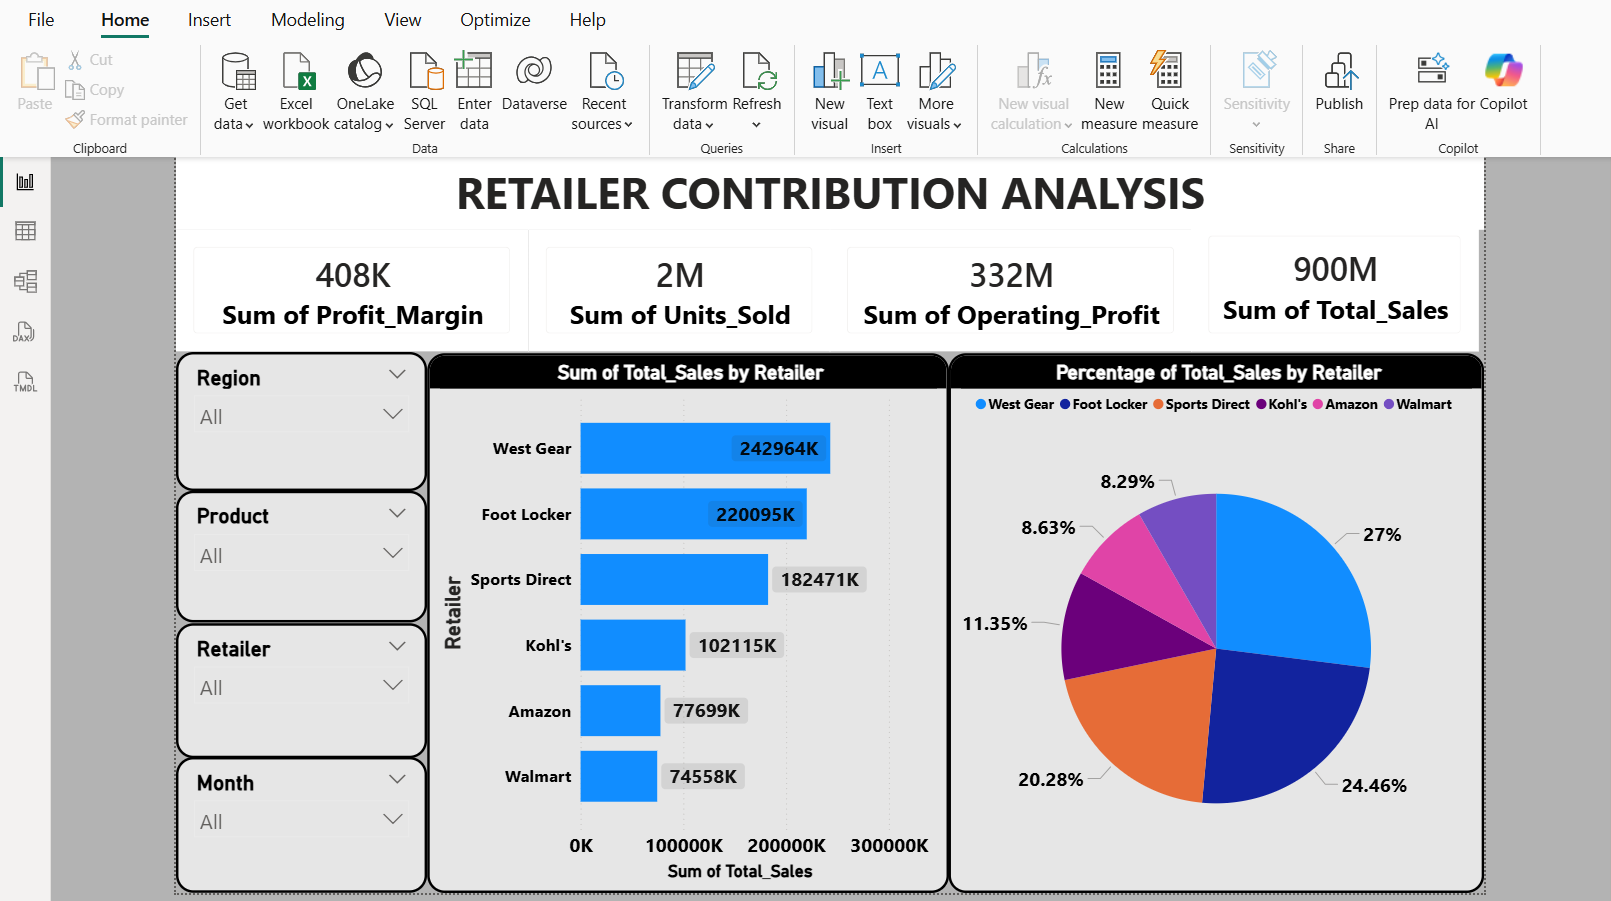

The dashboard page shown, as its layout file describes it:
{"tool":"powerbi","page":{"name":"Page 4","canvas":[1280,720],"ordinal":3},"visuals":[{"type":"textbox","box":[0,0,1280.3,70.9],"z":0},{"type":"barChart","fields":{"Category":["adidas_sales.Retailer"],"Y":["Sum(adidas_sales.Total_Sales)"]},"box":[245.6,192.1,510.5,528.3],"z":1000},{"type":"pieChart","title":"Percentage of Total_Sales by Retailer","fields":{"Y":["Sum(adidas_sales.Total_Sales)"],"Category":["adidas_sales.Retailer"]},"box":[756.1,192.1,524.2,528.3],"z":2000},{"type":"cardVisual","fields":{"Data":["Sum(adidas_sales.Profit_Margin)"]},"box":[0,71.4,344.4,119.4],"z":3000},{"type":"cardVisual","fields":{"Data":["Sum(adidas_sales.Units_Sold)"]},"box":[344.4,71.4,295,119.4],"z":4000},{"type":"cardVisual","fields":{"Data":["Sum(adidas_sales.Operating_Profit)"]},"box":[639.5,71.4,354,119.4],"z":5000},{"type":"cardVisual","fields":{"Data":["Sum(adidas_sales.Total_Sales)"]},"box":[993.5,60.4,281.3,130.4],"z":6000},{"type":"slicer","fields":{"Values":["adidas_sales.Region"]},"box":[0,190.7,245.6,135.8],"z":7000},{"type":"slicer","fields":{"Values":["adidas_sales.Product"]},"box":[0,326.6,245.6,129],"z":8000},{"type":"slicer","fields":{"Values":["DateTable.Month"]},"box":[0,587.3,245.6,133.1],"z":9000},{"type":"slicer","fields":{"Values":["adidas_sales.Retailer"]},"box":[0,455.6,245.6,131.7],"z":10000}]}

Visuals, with their boxes on the page's 1280x720 design canvas (x1, y1, x2, y2). These are canvas units, not pixel positions in the 1611x901 screenshot, which may show the page scaled, cropped or inside an application window:
textbox: {"x1": 0, "y1": 0, "x2": 1280, "y2": 71}
barChart - adidas_sales.Retailer x Sum(adidas_sales.Total_Sales): {"x1": 246, "y1": 192, "x2": 756, "y2": 720}
"Percentage of Total_Sales by Retailer" pieChart: {"x1": 756, "y1": 192, "x2": 1280, "y2": 720}
cardVisual - Sum(adidas_sales.Profit_Margin): {"x1": 0, "y1": 71, "x2": 344, "y2": 191}
cardVisual - Sum(adidas_sales.Units_Sold): {"x1": 344, "y1": 71, "x2": 639, "y2": 191}
cardVisual - Sum(adidas_sales.Operating_Profit): {"x1": 640, "y1": 71, "x2": 994, "y2": 191}
cardVisual - Sum(adidas_sales.Total_Sales): {"x1": 994, "y1": 60, "x2": 1275, "y2": 191}
slicer - adidas_sales.Region: {"x1": 0, "y1": 191, "x2": 246, "y2": 326}
slicer - adidas_sales.Product: {"x1": 0, "y1": 327, "x2": 246, "y2": 456}
slicer - DateTable.Month: {"x1": 0, "y1": 587, "x2": 246, "y2": 720}
slicer - adidas_sales.Retailer: {"x1": 0, "y1": 456, "x2": 246, "y2": 587}
